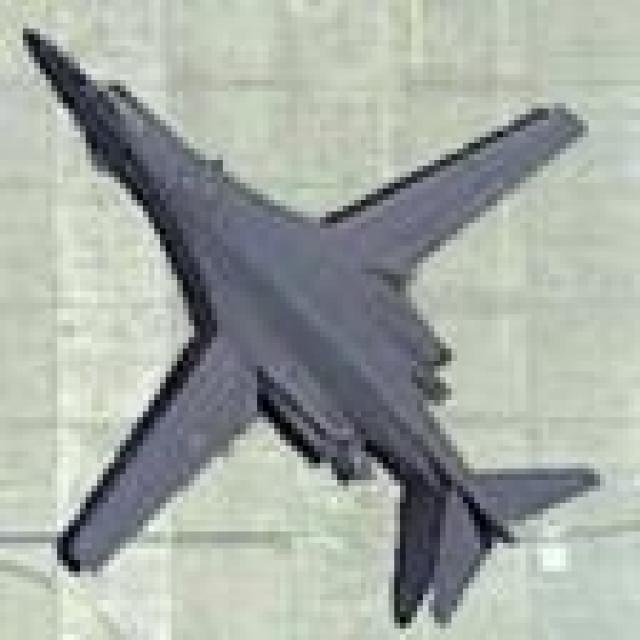B-1_TopDown: (17, 17, 600, 629)
